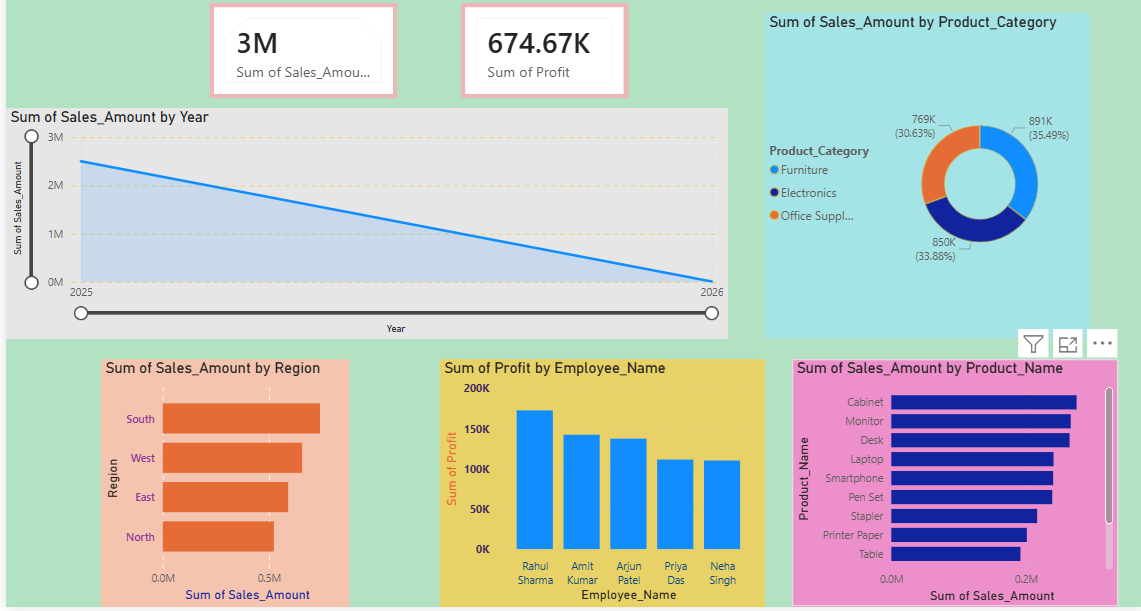

The page's visual inventory and layout, read from the dashboard file:
{"tool":"powerbi","page":{"name":"Page 1","canvas":[1280,720],"ordinal":0},"visuals":[{"type":"cardVisual","fields":{"Data":["Sum(PowerBI_Sales_Data.Sales_Amount)","Sum(PowerBI_Sales_Data.Sales_Amount)"]},"box":[229.6,39.4,211.3,107],"z":0},{"type":"cardVisual","fields":{"Data":["Sum(PowerBI_Sales_Data.Profit)"]},"box":[512.7,39.4,188.7,107],"z":2},{"type":"lineChart","fields":{"Category":["PowerBI_Sales_Data.Order_Date.Variation.Date Hierarchy.Year","PowerBI_Sales_Data.Order_Date.Variation.Date Hierarchy.Quarter","PowerBI_Sales_Data.Order_Date.Variation.Date Hierarchy.Month","PowerBI_Sales_Data.Order_Date.Variation.Date Hierarchy.Day"],"Y":["Sum(PowerBI_Sales_Data.Sales_Amount)"]},"box":[0,157.7,812.7,259.2],"z":3},{"type":"clusteredBarChart","fields":{"Category":["PowerBI_Sales_Data.Region"],"Y":["Sum(PowerBI_Sales_Data.Sales_Amount)"]},"box":[107,440.8,280.3,278.9],"z":4},{"type":"donutChart","fields":{"Category":["PowerBI_Sales_Data.Product_Category"],"Y":["Sum(PowerBI_Sales_Data.Sales_Amount)"]},"box":[854.9,50.7,366.2,366.2],"z":5},{"type":"clusteredBarChart","fields":{"Category":["PowerBI_Sales_Data.Product_Name"],"Y":["Sum(PowerBI_Sales_Data.Sales_Amount)"]},"box":[886.5,440.5,366.4,279.9],"z":6},{"type":"clusteredColumnChart","fields":{"Category":["PowerBI_Sales_Data.Employee_Name"],"Y":["Sum(PowerBI_Sales_Data.Profit)"]},"box":[488.7,440.8,366.2,278.9],"z":7}]}

Visuals, with their boxes on the page's 1280x720 design canvas (x1, y1, x2, y2). These are canvas units, not pixel positions in the 1141x611 screenshot, which may show the page scaled, cropped or inside an application window:
cardVisual - Sum(PowerBI_Sales_Data.Sales_Amount) x Sum(PowerBI_Sales_Data.Sales_Amount): 230, 39, 441, 146
cardVisual - Sum(PowerBI_Sales_Data.Profit): 513, 39, 701, 146
lineChart - PowerBI_Sales_Data.Order_Date.Variation.Date Hierarchy.Year x PowerBI_Sales_Data.Order_Date.Variation.Date Hierarchy.Quarter: 0, 158, 813, 417
clusteredBarChart - PowerBI_Sales_Data.Region x Sum(PowerBI_Sales_Data.Sales_Amount): 107, 441, 387, 720
donutChart - PowerBI_Sales_Data.Product_Category x Sum(PowerBI_Sales_Data.Sales_Amount): 855, 51, 1221, 417
clusteredBarChart - PowerBI_Sales_Data.Product_Name x Sum(PowerBI_Sales_Data.Sales_Amount): 886, 440, 1253, 720
clusteredColumnChart - PowerBI_Sales_Data.Employee_Name x Sum(PowerBI_Sales_Data.Profit): 489, 441, 855, 720
